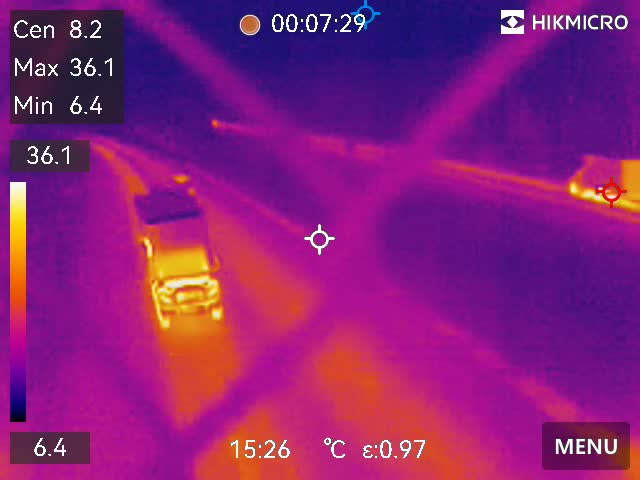heavyTruck: (130, 195, 239, 328), (564, 153, 640, 210)
